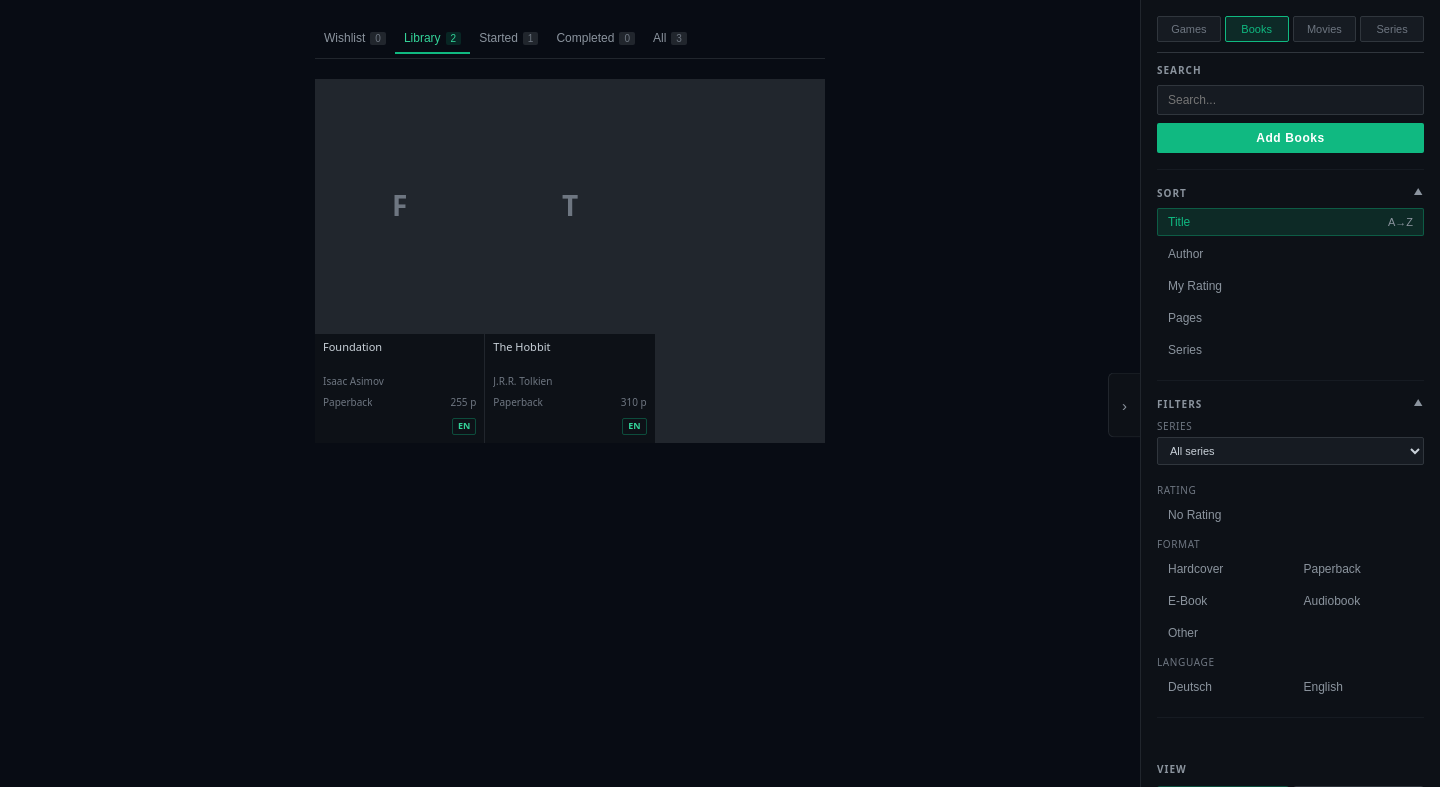
Test: BookList – Manual editor › speichert neues Buch über Editor
Click the button with class "search-open-btn".
click(1290, 138)  # box [1157, 123, 1424, 153]
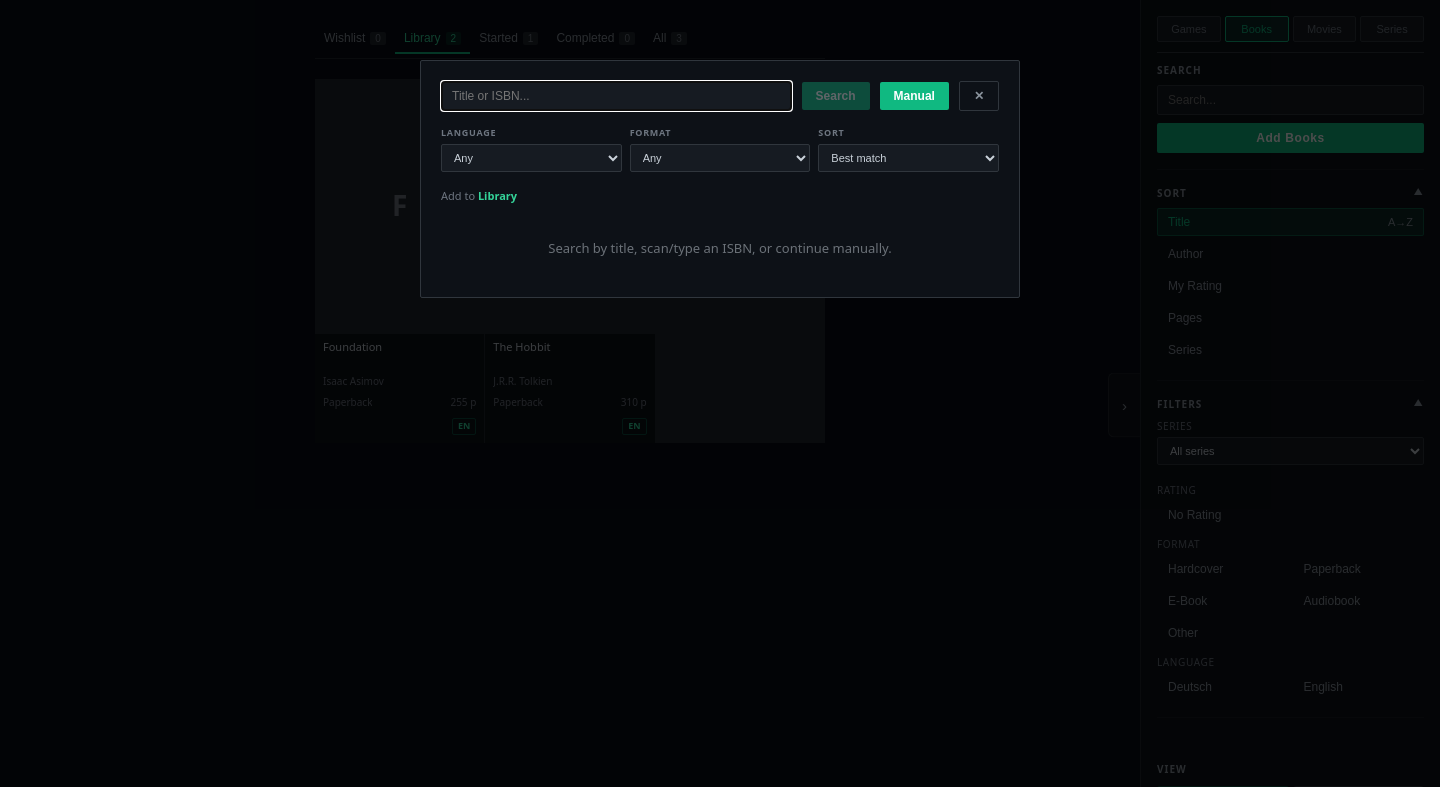
Click the button with class "desktop-manual-btn".
click(914, 96)  # box [880, 82, 949, 110]
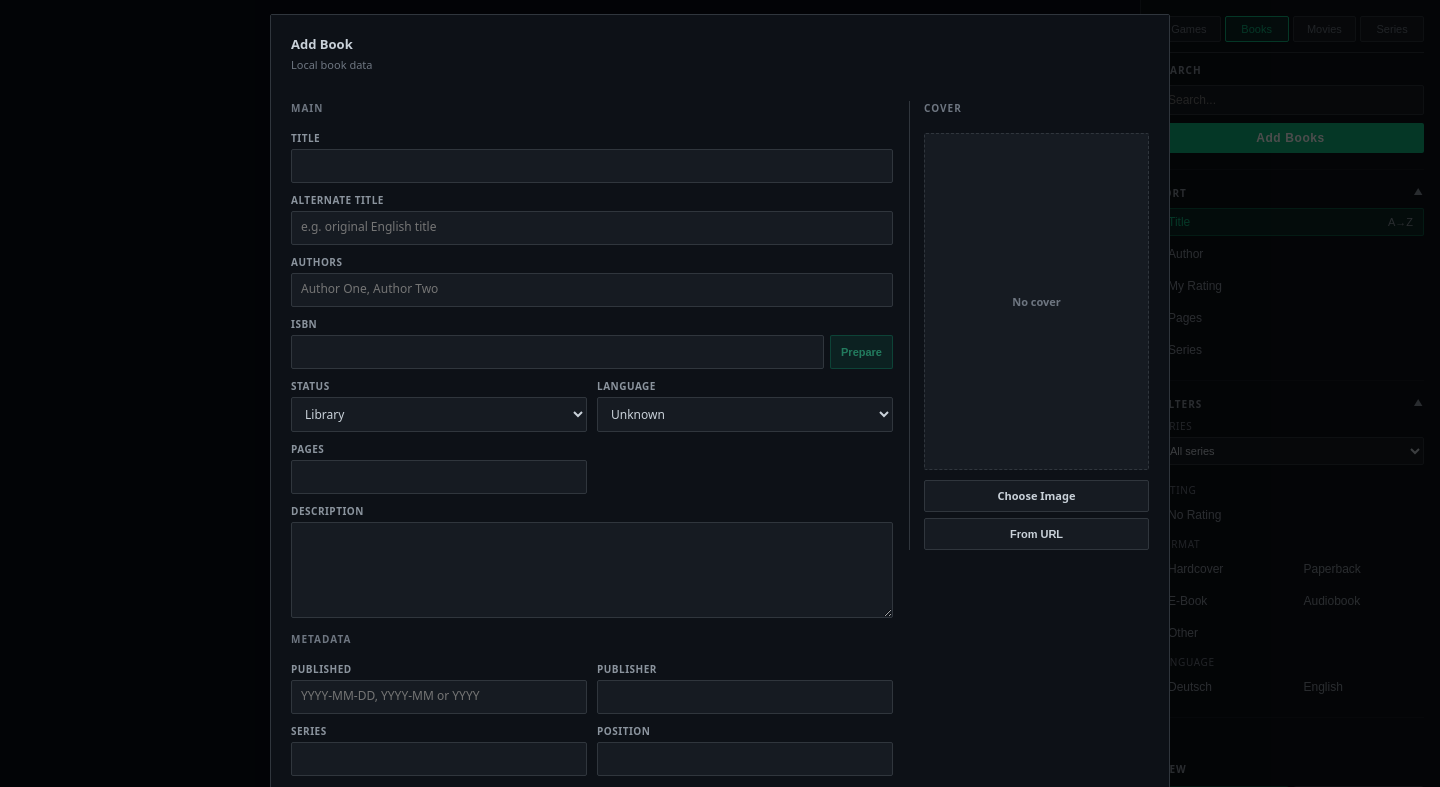
Type "Manual Book" into the field with class "book-editor-input" showing "Title".
click(592, 166); type("Manual Book")  # box [291, 149, 893, 183]
(page scrolled)
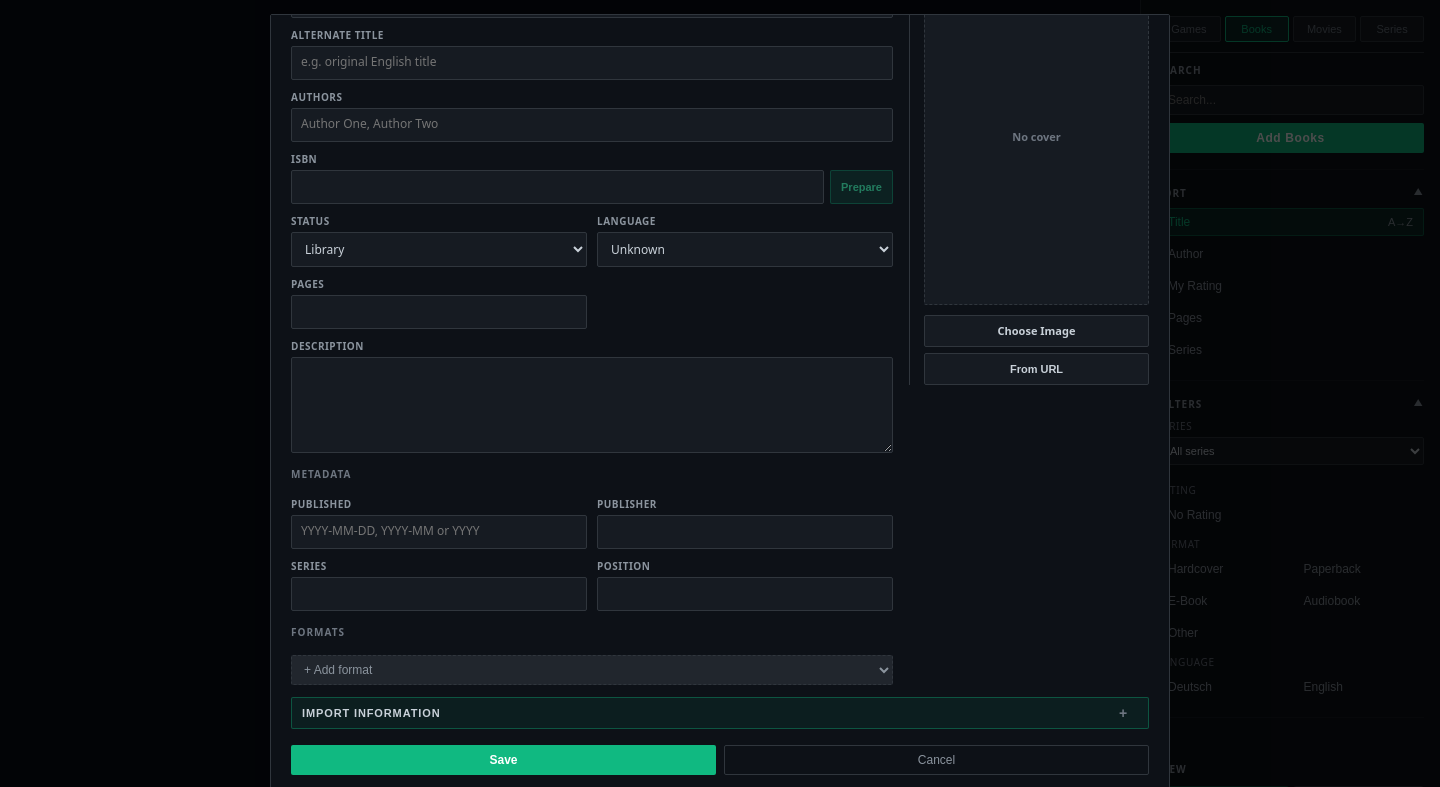
Click the button with class "close-btn".
click(504, 760)  # box [291, 745, 716, 775]
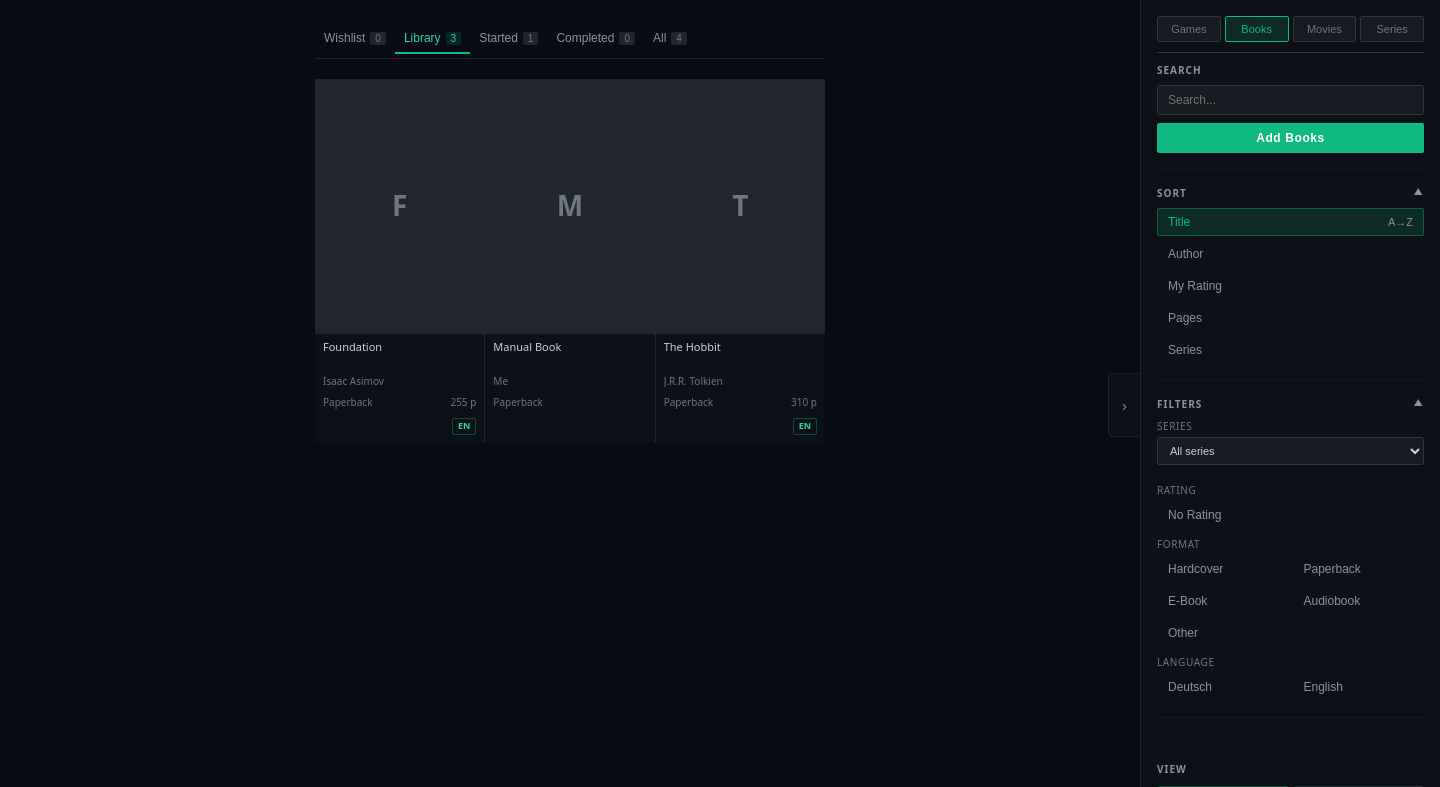
Expected: the text "Manual Book" is shown, [493, 340, 561, 354]
